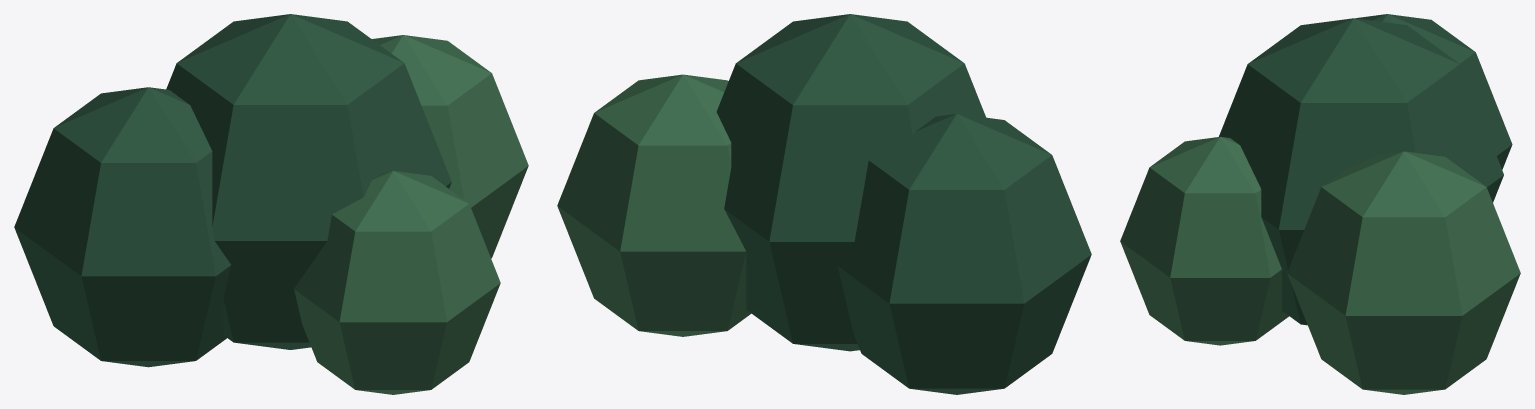
File: terrain_bush_tall.glb
3 renders of one model, left to right at view 1: azimuth 30°, elevation 25°; view 2: azimuth 150°, elevation 25°; view 3: azimuth 270°, elevation 25°, orthographic. The views are drawn at different scales.
Visible parts, largest first — view 1: terrain_bush_tall; view 2: terrain_bush_tall; view 3: terrain_bush_tall.
Boxes of the visible parts, box(x1,y1,x2,y2) form: terrain_bush_tall: box(14, 14, 528, 394); terrain_bush_tall: box(557, 14, 1091, 394); terrain_bush_tall: box(1120, 14, 1520, 394).
Bounding box in the file's own units: 2.96 × 2.07 × 2.4.
